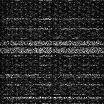lte: (1, 40, 104, 45), (1, 48, 104, 53), (1, 96, 104, 99), (1, 74, 104, 77), (1, 18, 104, 20)
